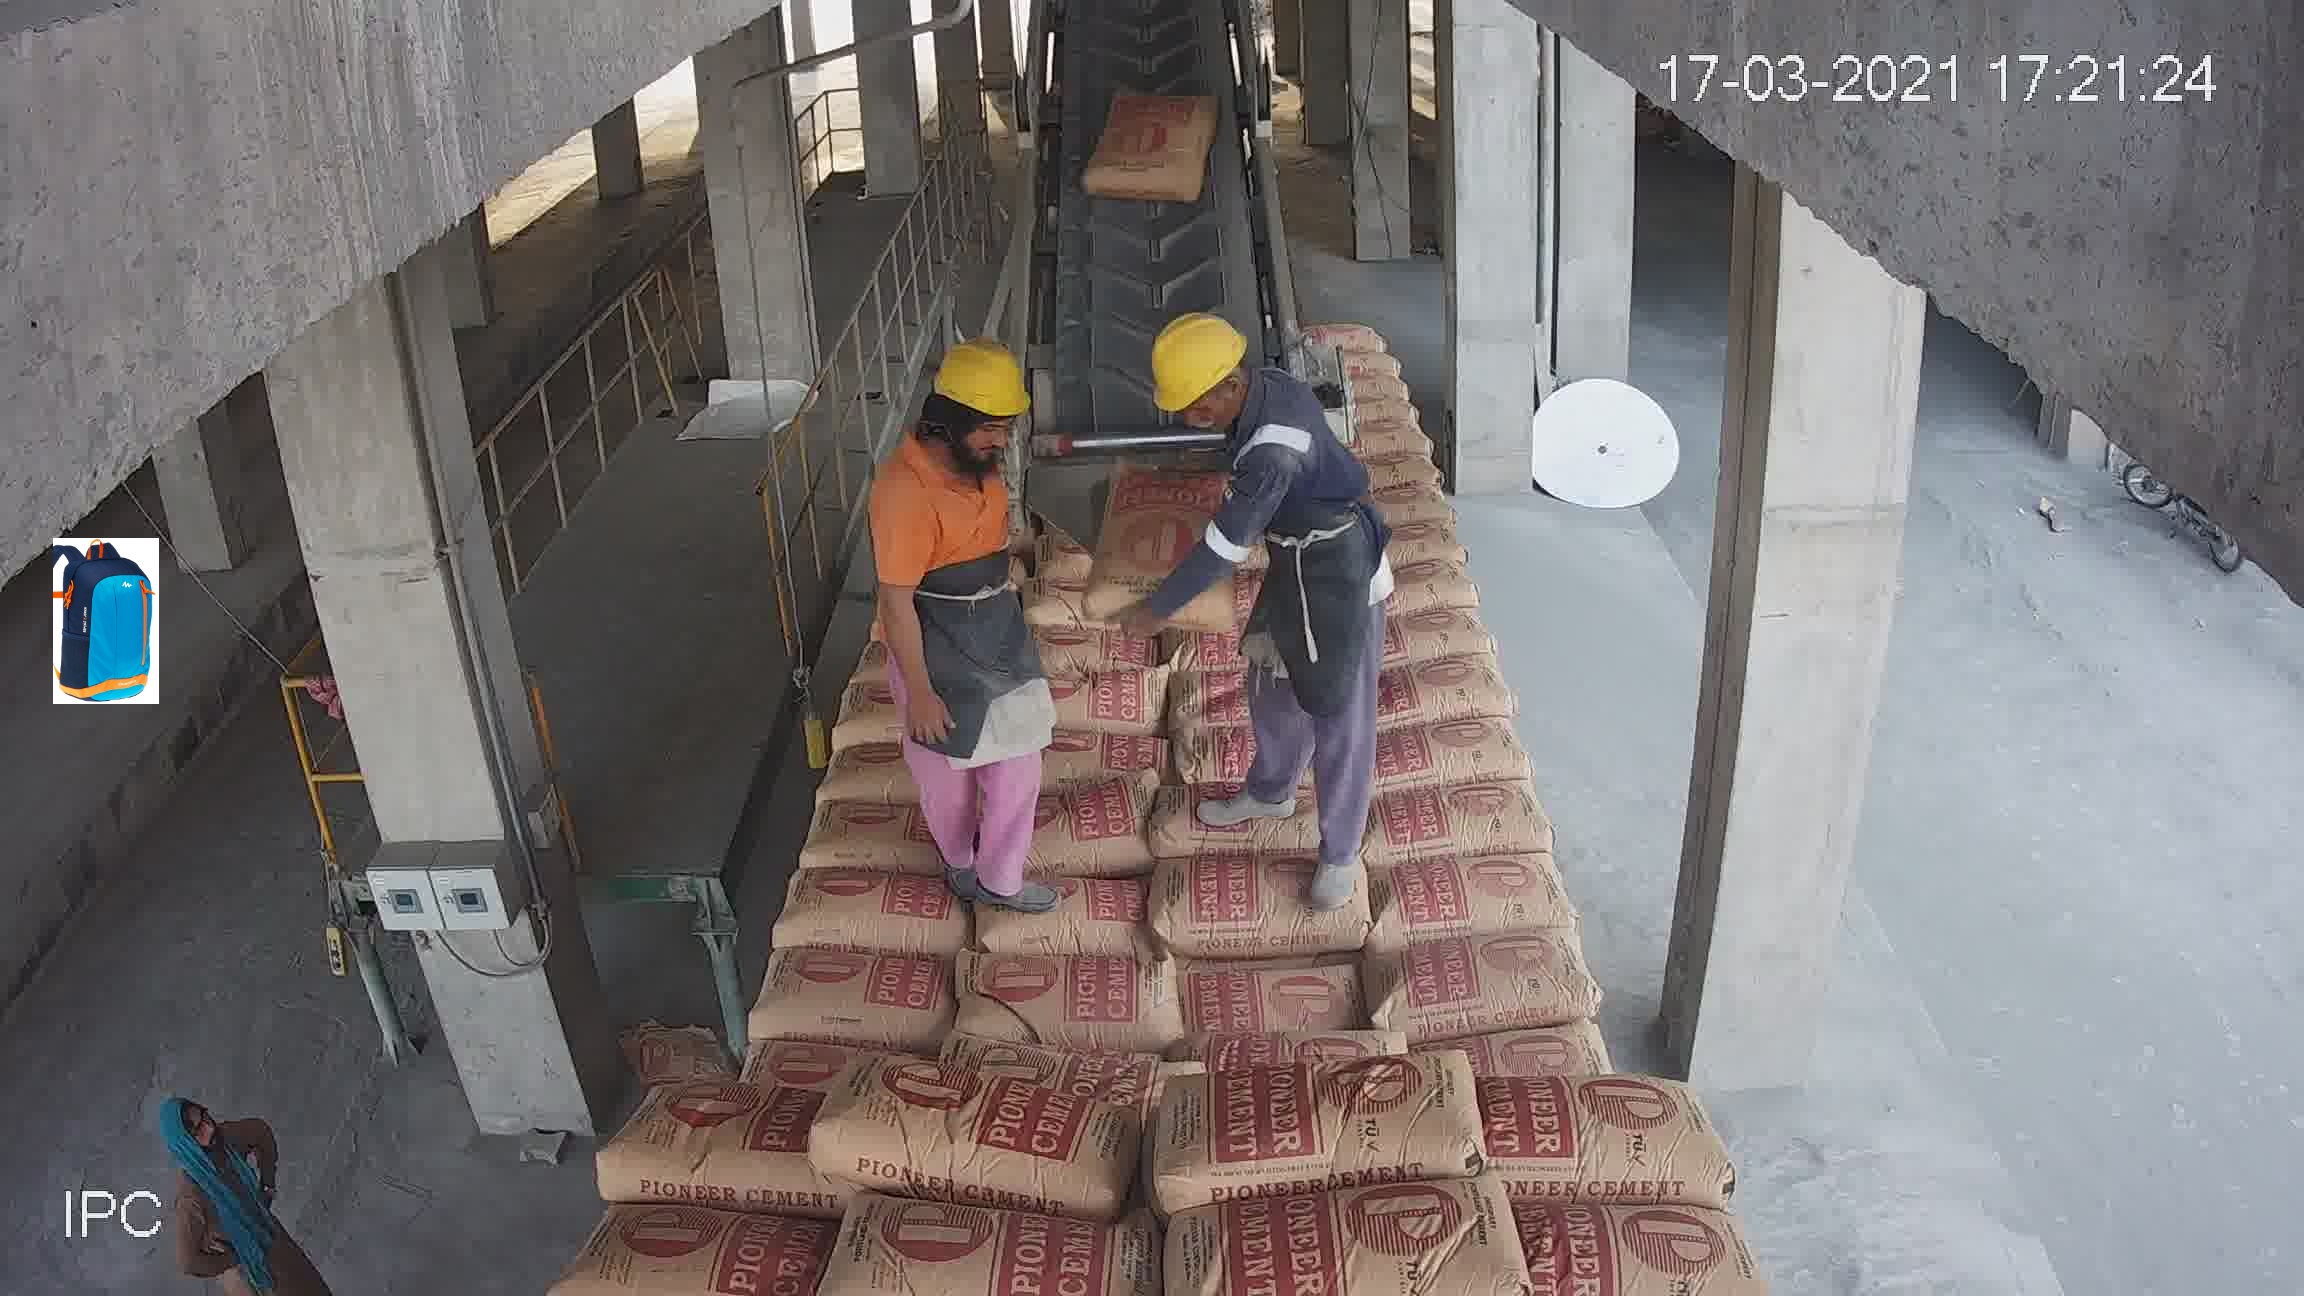bag_h: (1146, 1022, 1456, 1196), (821, 1051, 1149, 1211), (1150, 926, 1465, 1078), (869, 932, 1149, 1097), (1161, 1169, 1510, 1296), (1141, 818, 1438, 957), (1120, 707, 1399, 850), (1453, 1071, 1734, 1199), (783, 1199, 1139, 1296), (1499, 1185, 1790, 1296), (1431, 956, 1688, 1078), (570, 1070, 791, 1203), (630, 965, 881, 1081), (896, 843, 1143, 956), (661, 859, 889, 970), (1429, 843, 1635, 964), (891, 753, 1143, 847), (712, 771, 904, 880), (1385, 767, 1595, 866), (570, 1211, 813, 1283), (986, 658, 1185, 723), (1022, 559, 1188, 631), (1021, 616, 1173, 687), (1400, 706, 1540, 771), (1207, 497, 1310, 579), (1180, 552, 1291, 625), (896, 505, 1032, 559), (1011, 720, 1158, 767), (1419, 646, 1514, 718), (1157, 612, 1272, 668), (919, 540, 1041, 589), (908, 470, 1010, 514)
belt: (1021, 0, 1296, 492)
